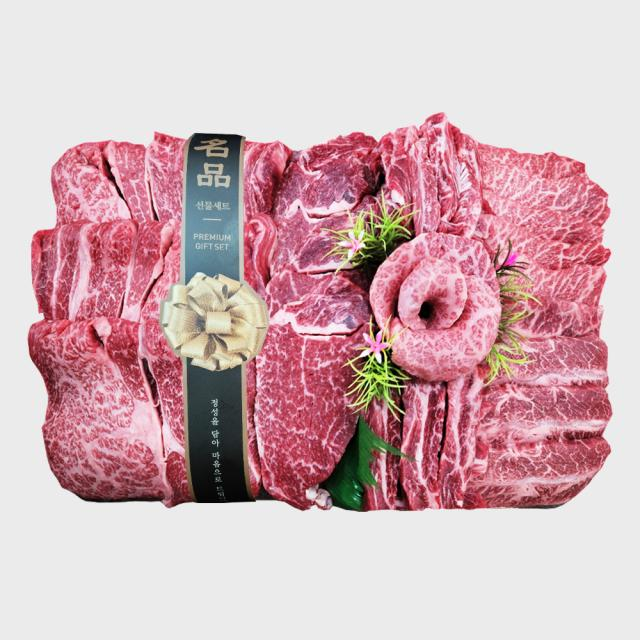beef: (58, 150, 572, 482)
